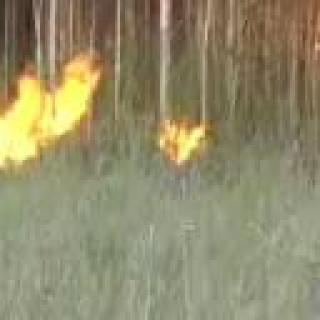fire: (0, 57, 104, 166), (158, 125, 222, 173)
